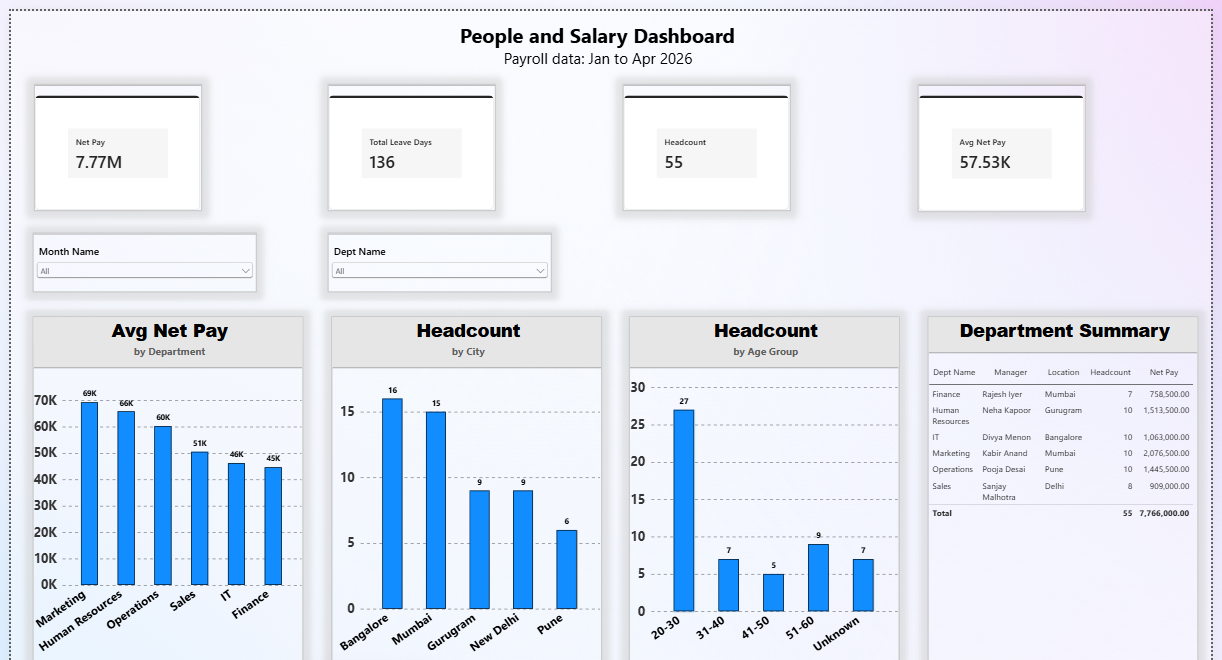

The dashboard page shown, as its layout file describes it:
{"tool":"powerbi","page":{"name":"People and Salary ","canvas":[1920,1080],"ordinal":2},"visuals":[{"type":"slicer","fields":{"Values":["Calendar.Month Name"]},"box":[35,354,360.2,96.7],"z":0},{"type":"cardVisual","fields":{"Data":["Count(Employee.Emp Id)"]},"box":[978.3,115,270,205],"z":1000},{"type":"cardVisual","fields":{"Data":["Salary.net pay"]},"box":[35,115,270,205],"z":2000},{"type":"cardVisual","fields":{"Data":["Sum(Leaves.Days)"]},"box":[506.7,115,270,205],"z":3000},{"type":"cardVisual","fields":{"Data":["Salary.avg net pay"]},"box":[1450,115,270,206.3],"z":4000},{"type":"slicer","fields":{"Values":["Department.Dept Name"]},"box":[506.3,354,360,96.7],"z":5000},{"type":"columnChart","title":"Avg Net Pay","fields":{"Category":["Department.Dept Name"],"Y":["Salary.avg net pay"]},"box":[35,487.8,434.3,557.8],"z":6000},{"type":"columnChart","title":"Headcount","fields":{"Category":["Employee.City"],"Y":["Count(Employee.Emp Id)"]},"box":[512.5,487.8,434.3,557.8],"z":7000},{"type":"columnChart","title":"Headcount","fields":{"Category":["Employee.Age (groups)"],"Y":["Count(Employee.Emp Id)"]},"box":[988,487.8,434.3,557.8],"z":8000},{"type":"tableEx","title":"Department Summary","fields":{"Values":["Department.Dept Name","Department.Manager","Department.Location","Employee.Emp Id","Salary.net pay"]},"box":[1465.5,487.8,434.3,557.8],"z":9000},{"type":"textbox","box":[718.4,16.5,442.5,98.8],"z":9001}]}

Visuals, with their boxes on the page's 1920x1080 design canvas (x1, y1, x2, y2). These are canvas units, not pixel positions in the 1222x660 screenshot, which may show the page scaled, cropped or inside an application window:
slicer - Calendar.Month Name: 35, 354, 395, 451
cardVisual - Count(Employee.Emp Id): 978, 115, 1248, 320
cardVisual - Salary.net pay: 35, 115, 305, 320
cardVisual - Sum(Leaves.Days): 507, 115, 777, 320
cardVisual - Salary.avg net pay: 1450, 115, 1720, 321
slicer - Department.Dept Name: 506, 354, 866, 451
"Avg Net Pay" columnChart: 35, 488, 469, 1046
"Headcount" columnChart: 512, 488, 947, 1046
"Headcount" columnChart: 988, 488, 1422, 1046
"Department Summary" tableEx: 1466, 488, 1900, 1046
textbox: 718, 16, 1161, 115
